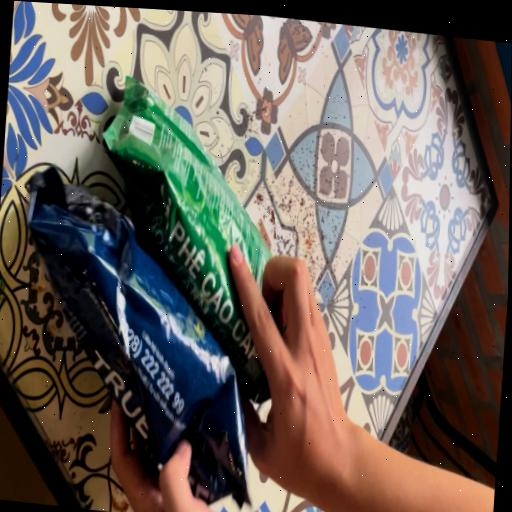cafe_hat: (28, 166, 249, 506)
cafe_xay: (103, 77, 270, 402)
